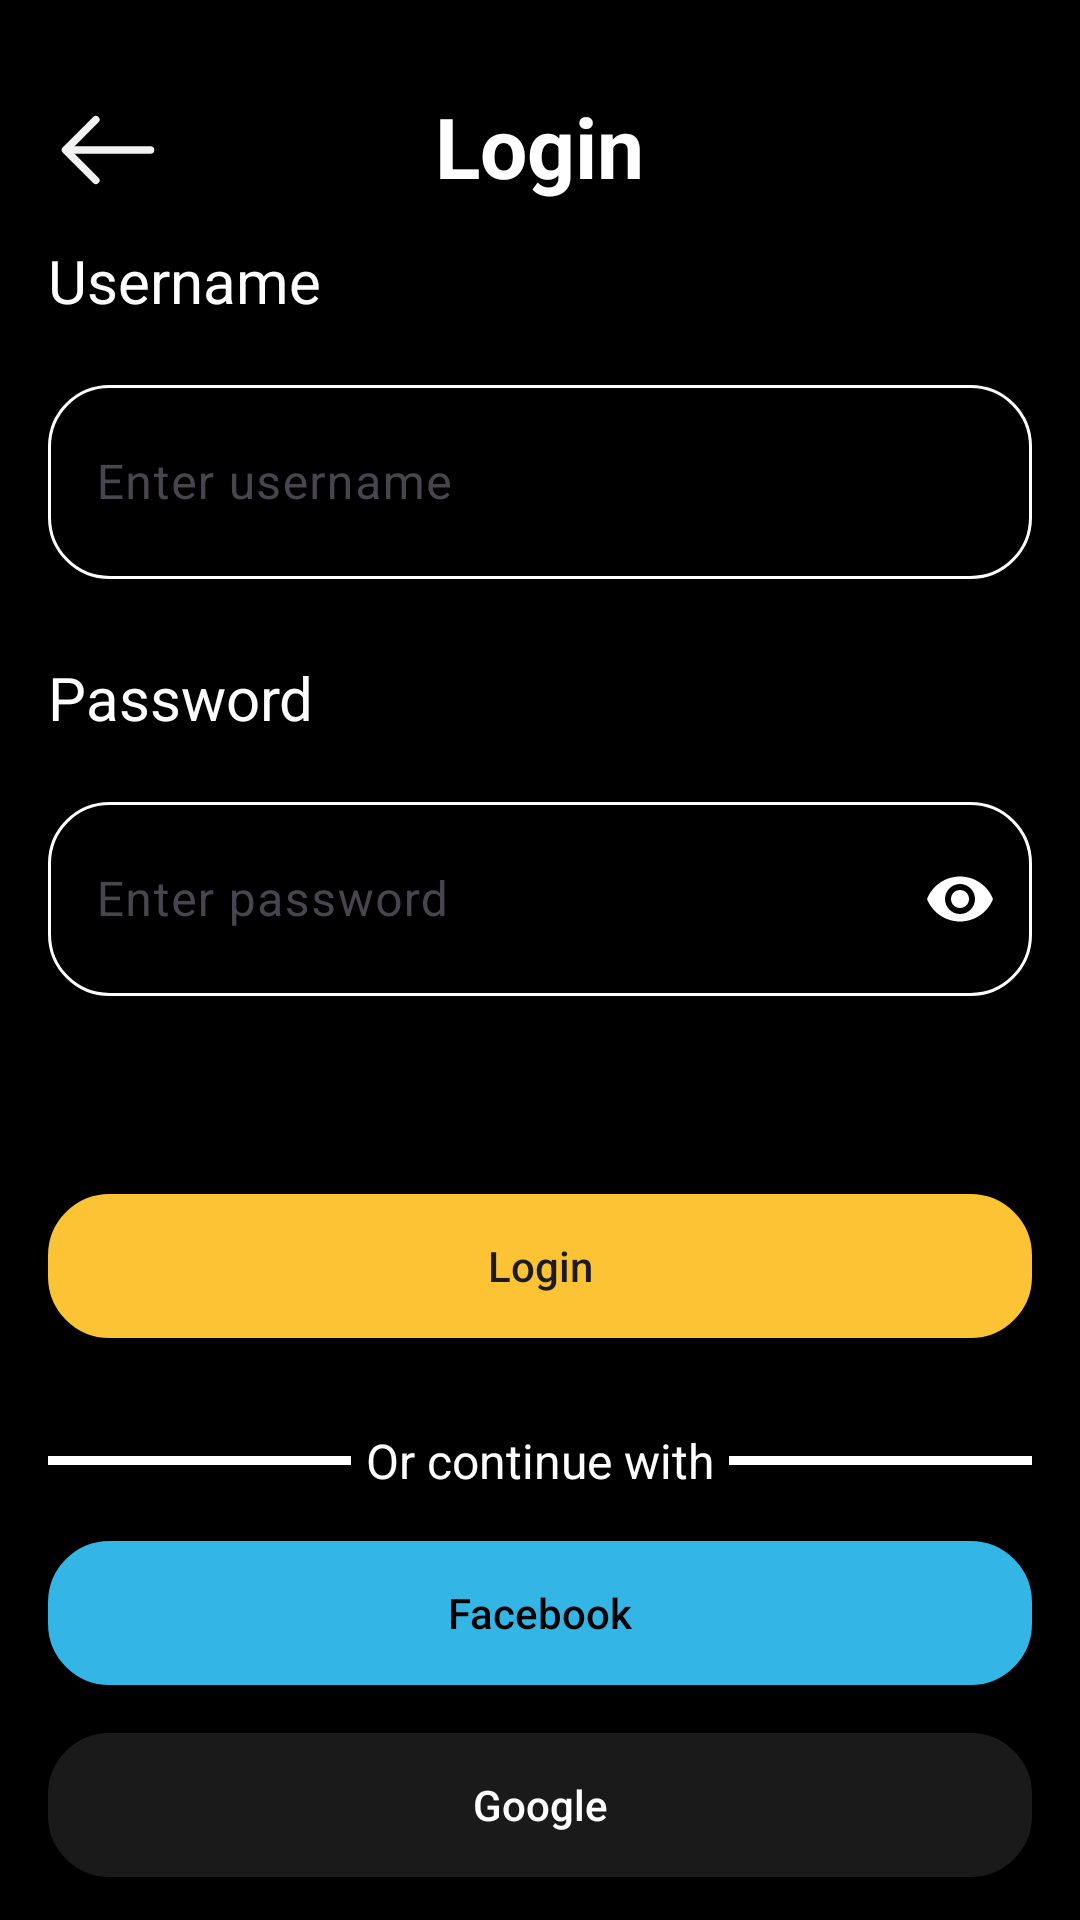

Where to tap for icons on this 1080 x 1920 app screen, as (x,y):
arrow left: (108,150)
